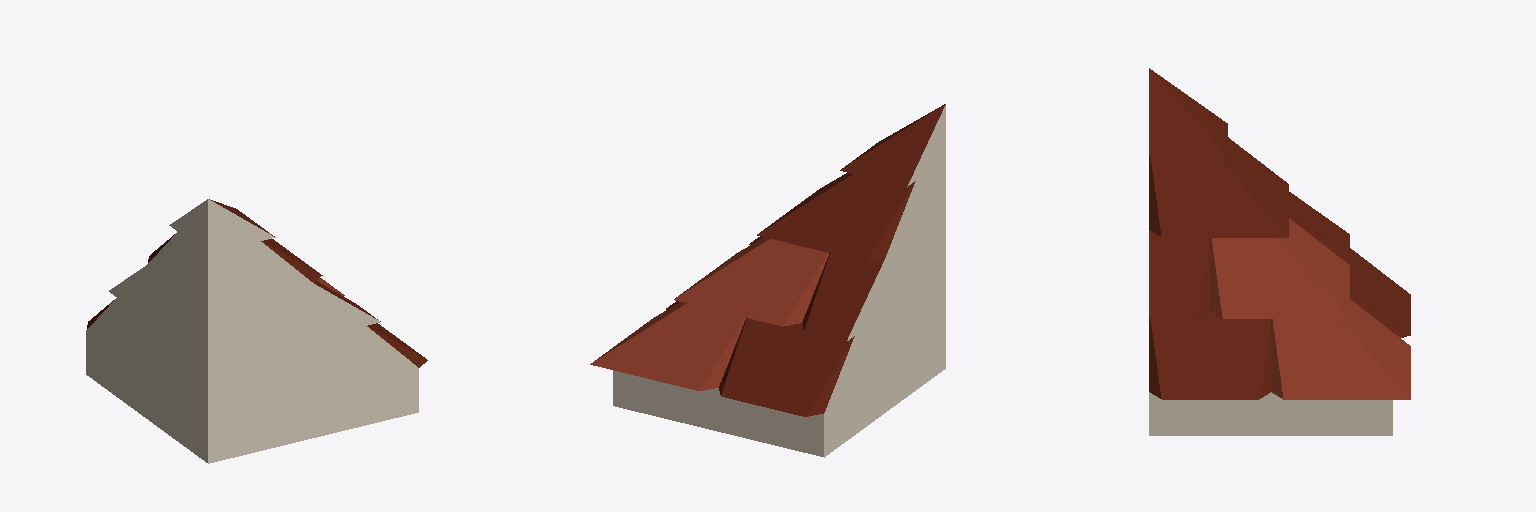
The model's file is Roof_Straight_Corner_Outer.obj.
3 renders of one model, left to right at view 1: azimuth 30°, elevation 25°; view 2: azimuth 150°, elevation 25°; view 3: azimuth 270°, elevation 25°, orthographic.
Visible parts, largest first — view 1: object1; view 2: object1; view 3: object1.
Boxes of the visible parts, x1=… form: object1: x1=86, y1=199, x2=427, y2=463; object1: x1=590, y1=104, x2=945, y2=457; object1: x1=1149, y1=68, x2=1410, y2=435.
Bounding box in the file's own units: 1.07 × 1.2 × 1.07.